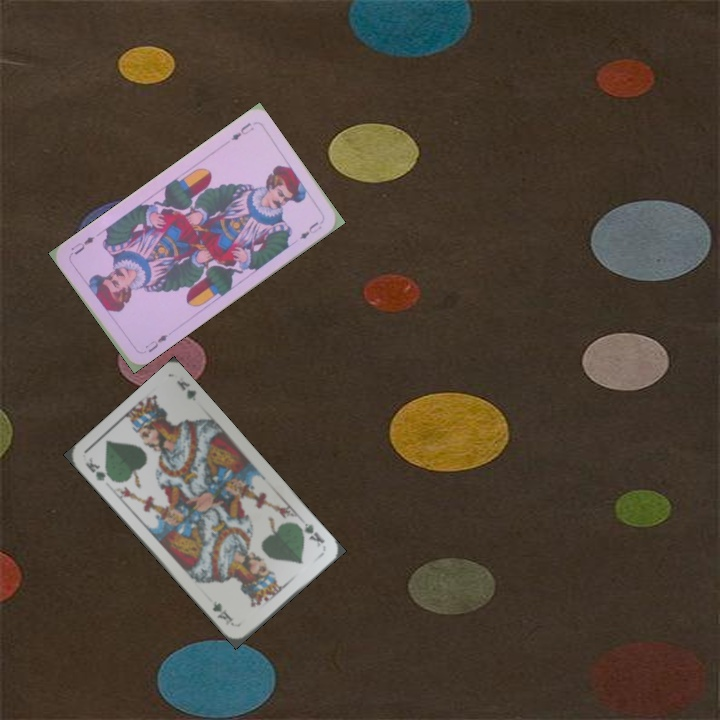EU: (141, 330, 170, 355), (227, 118, 256, 143)
GK: (81, 453, 116, 484), (293, 519, 327, 550)
